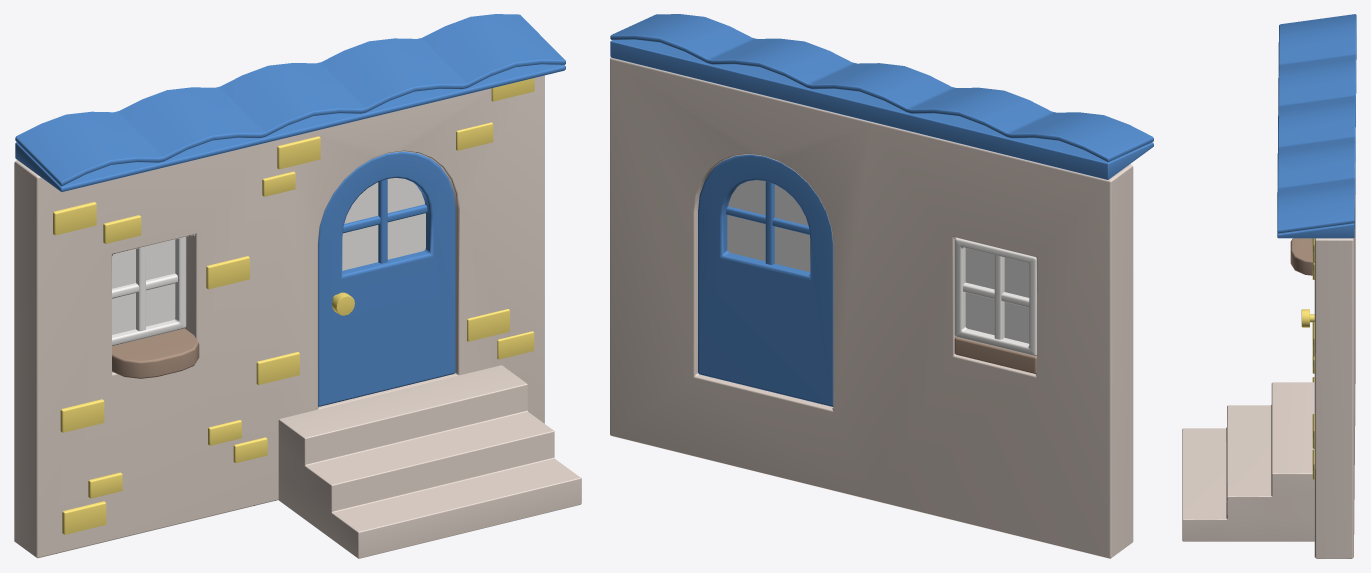
File: Wall_30.glb
The picture shows the model from 3 angles, left to right: view 1: azimuth 30°, elevation 25°; view 2: azimuth 150°, elevation 25°; view 3: azimuth 270°, elevation 25°; orthographic projection. The views are drawn at different scales.
Parts seen in each view (by area): view 1: Wall_30; view 2: Wall_30; view 3: Wall_30.
Part boxes in pixels (box(x1,y1,x2,y2)): Wall_30: box(14, 14, 581, 558); Wall_30: box(610, 14, 1153, 558); Wall_30: box(1182, 14, 1356, 558).
Bounding box in the file's own units: 5 × 3.91 × 1.78.
Materials: 2 (2 with a texture image).
